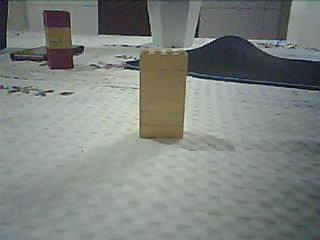lego: (138, 47, 187, 141), (41, 9, 73, 69)
